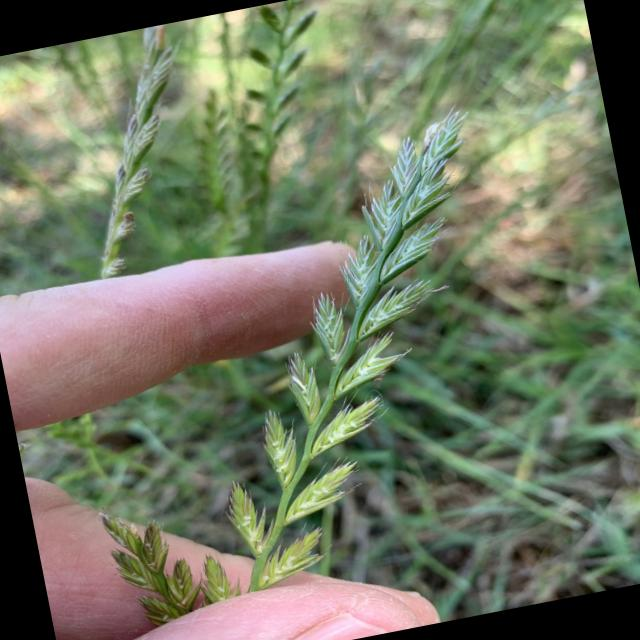Lolium: (32, 101, 558, 636), (56, 26, 217, 277), (224, 0, 346, 171)
